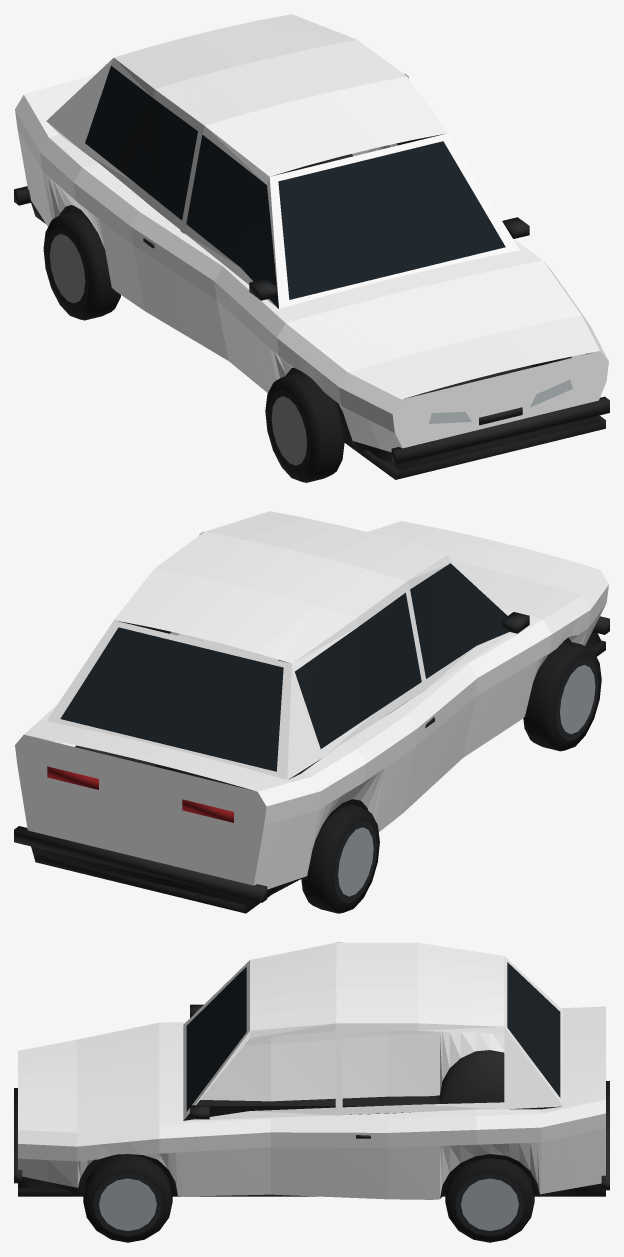
The model's file is kosame_torvelinho.glb.
3 views of the same model, one above another, from view 1: azimuth 30°, elevation 25°; view 2: azimuth 150°, elevation 25°; view 3: azimuth 270°, elevation 25° (orthographic). The views are drawn at different scales.
Parts seen in each view (by area): view 1: Body_Paint, Body_Details, Mount_FrontLeft_Wheel_Details, Mount_RearLeft_Wheel_Details; view 2: Body_Paint, Body_Details, Mount_FrontLeft_Wheel_Details, Mount_RearLeft_Wheel_Details; view 3: Body_Paint, Body_Details, Mount_FrontRight_Wheel_Details, Mount_RearRight_Wheel_Details.
Boxes of the visible parts, x1,y1,x2,y2 form: Body_Paint: (15, 14, 608, 452); Body_Details: (14, 65, 609, 479); Mount_FrontLeft_Wheel_Details: (265, 372, 344, 482); Mount_RearLeft_Wheel_Details: (43, 211, 120, 320); Body_Paint: (15, 511, 608, 889); Body_Details: (14, 563, 609, 913); Mount_FrontLeft_Wheel_Details: (523, 640, 601, 751); Mount_RearLeft_Wheel_Details: (301, 804, 379, 913); Body_Paint: (18, 942, 605, 1199); Body_Details: (14, 962, 609, 1198); Mount_FrontRight_Wheel_Details: (83, 1154, 172, 1242); Mount_RearRight_Wheel_Details: (445, 1158, 534, 1242).
Bounding box in the file's own units: 1.82 × 1.51 × 3.93.
Materials: 2 (1 with a texture image).
